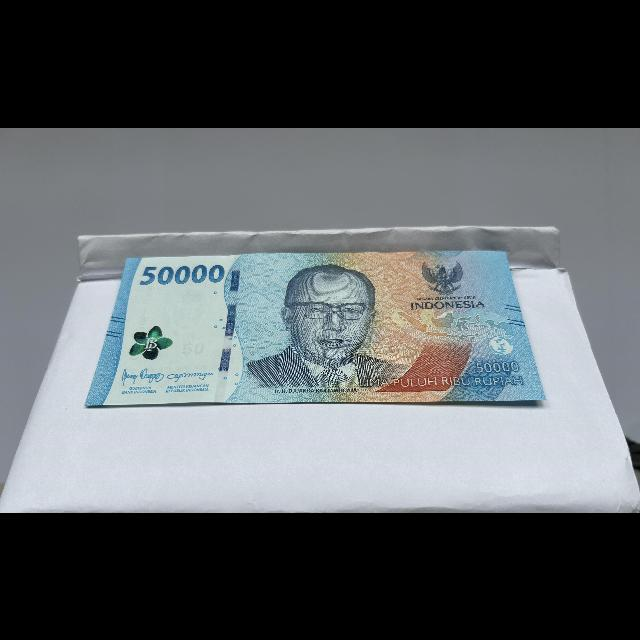Asli-50k: (81, 246, 550, 409)
Tinta-Asli-50k: (127, 319, 180, 366)
